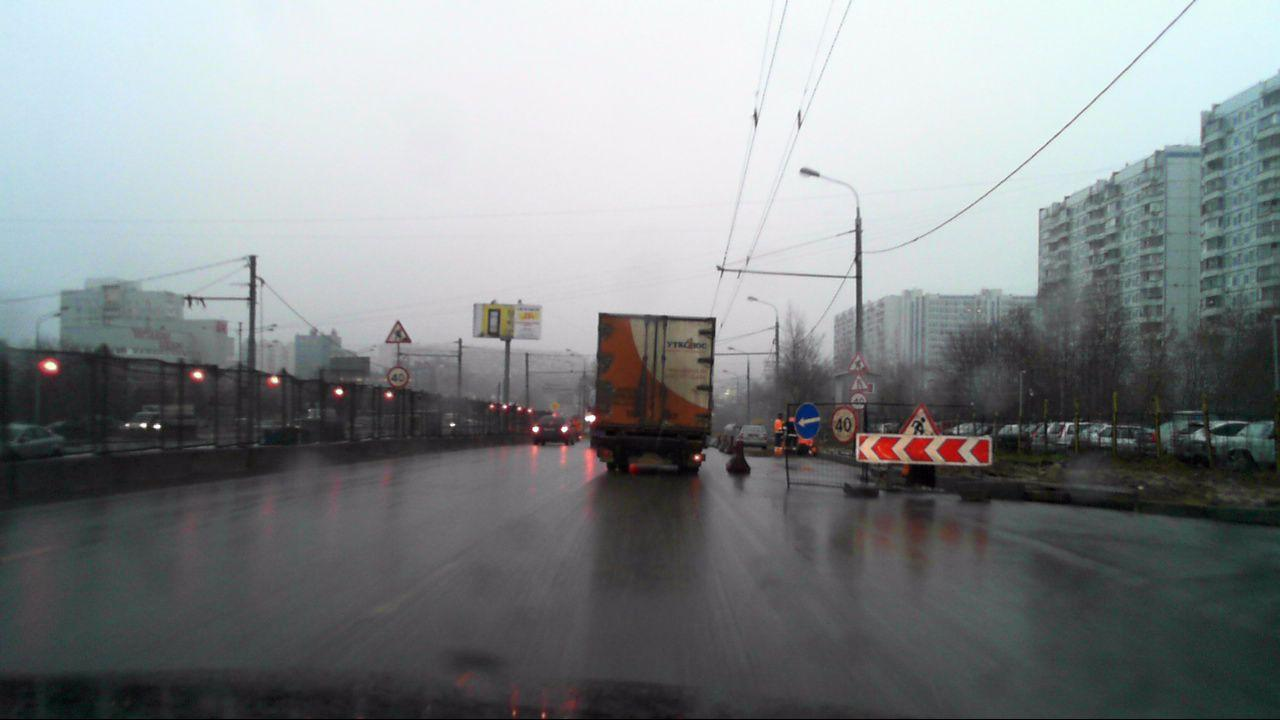1_20_2: (848, 374, 868, 391)
1_25: (899, 402, 939, 437), (382, 318, 412, 344), (848, 351, 868, 374)
1_34_2: (856, 432, 992, 467)
3_24: (828, 406, 858, 442), (388, 364, 409, 388), (850, 392, 867, 408)
4_2_2: (796, 402, 820, 438)
